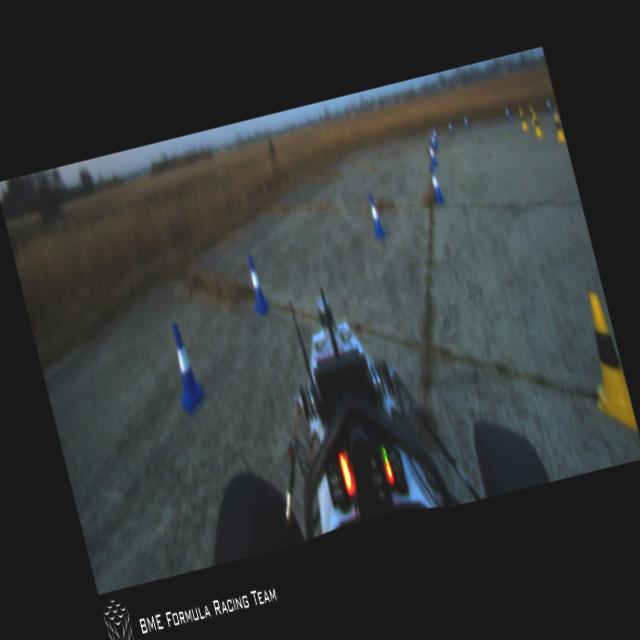blue_cone: (162, 321, 209, 417), (242, 252, 270, 315), (364, 192, 386, 239), (426, 164, 445, 204), (424, 138, 438, 166), (428, 128, 438, 152), (544, 96, 554, 115), (430, 125, 439, 144), (462, 112, 471, 128), (502, 102, 510, 120), (446, 120, 454, 136)
yellow_cone: (570, 288, 637, 434), (550, 111, 566, 144), (530, 112, 543, 138), (518, 106, 528, 132), (526, 104, 537, 126)
